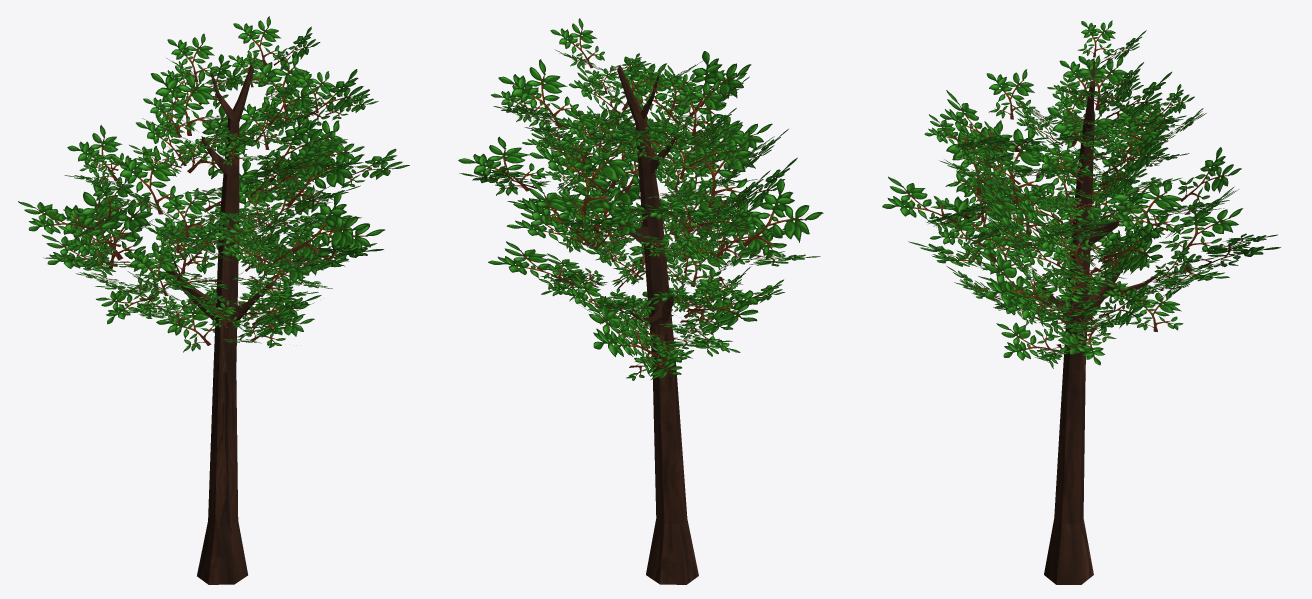
File: gBTree.fbx
The picture shows the model from 3 angles, left to right: view 1: azimuth 30°, elevation 25°; view 2: azimuth 150°, elevation 25°; view 3: azimuth 270°, elevation 25°; orthographic projection. The views are drawn at different scales.
Parts seen in each view (by area): view 1: Cylinder, Plane.133, Plane.104, Plane.046, Plane.036, Plane.025, Plane.142, Plane.041, Plane.109, Plane.098, Plane.022, Plane.043 (+40 smaller); view 2: Cylinder, Plane.107, Plane.144, Plane.043, Plane.147, Plane.078, Plane.030, Plane.140, Plane.102, Plane.151, Plane.082, Plane.148 (+41 smaller); view 3: Cylinder, Plane.083, Plane.080, Plane.150, Plane.135, Plane.102, Plane.031, Plane.014, Plane.073, Plane.145, Plane.047, Plane.038 (+36 smaller).
Part boxes in pixels (x1=…): Cylinder: x1=162, y1=65, x2=269, y2=584; Plane.133: x1=287, y1=191, x2=369, y2=265; Plane.104: x1=48, y1=179, x2=141, y2=267; Plane.046: x1=151, y1=68, x2=219, y2=135; Plane.036: x1=110, y1=145, x2=183, y2=214; Plane.025: x1=274, y1=136, x2=364, y2=212; Plane.142: x1=257, y1=114, x2=333, y2=179; Plane.041: x1=245, y1=51, x2=315, y2=119; Plane.109: x1=18, y1=201, x2=95, y2=242; Plane.098: x1=67, y1=124, x2=131, y2=185; Plane.022: x1=257, y1=74, x2=319, y2=129; Plane.043: x1=300, y1=69, x2=369, y2=127; Cylinder: x1=613, y1=65, x2=698, y2=584; Plane.107: x1=731, y1=178, x2=823, y2=258; Plane.144: x1=556, y1=138, x2=631, y2=216; Plane.043: x1=498, y1=59, x2=578, y2=128; Plane.147: x1=676, y1=129, x2=756, y2=208; Plane.078: x1=458, y1=136, x2=545, y2=195; Plane.030: x1=513, y1=178, x2=594, y2=248; Plane.140: x1=669, y1=51, x2=751, y2=124; Plane.102: x1=682, y1=288, x2=774, y2=329; Plane.151: x1=582, y1=300, x2=656, y2=375; Plane.082: x1=488, y1=241, x2=579, y2=290; Plane.148: x1=671, y1=79, x2=723, y2=136; Cylinder: x1=1042, y1=60, x2=1163, y2=584; Plane.083: x1=977, y1=249, x2=1052, y2=326; Plane.080: x1=1102, y1=214, x2=1168, y2=280; Plane.150: x1=1159, y1=204, x2=1243, y2=252; Plane.135: x1=882, y1=176, x2=958, y2=233; Plane.102: x1=1112, y1=180, x2=1186, y2=235; Plane.031: x1=1178, y1=147, x2=1241, y2=209; Plane.014: x1=986, y1=69, x2=1035, y2=119; Plane.073: x1=996, y1=322, x2=1060, y2=368; Plane.145: x1=973, y1=124, x2=1051, y2=204; Plane.047: x1=1073, y1=56, x2=1127, y2=110; Plane.038: x1=1047, y1=101, x2=1120, y2=173.
Size of the model in its own units: 1153 by 1487 by 1069.
